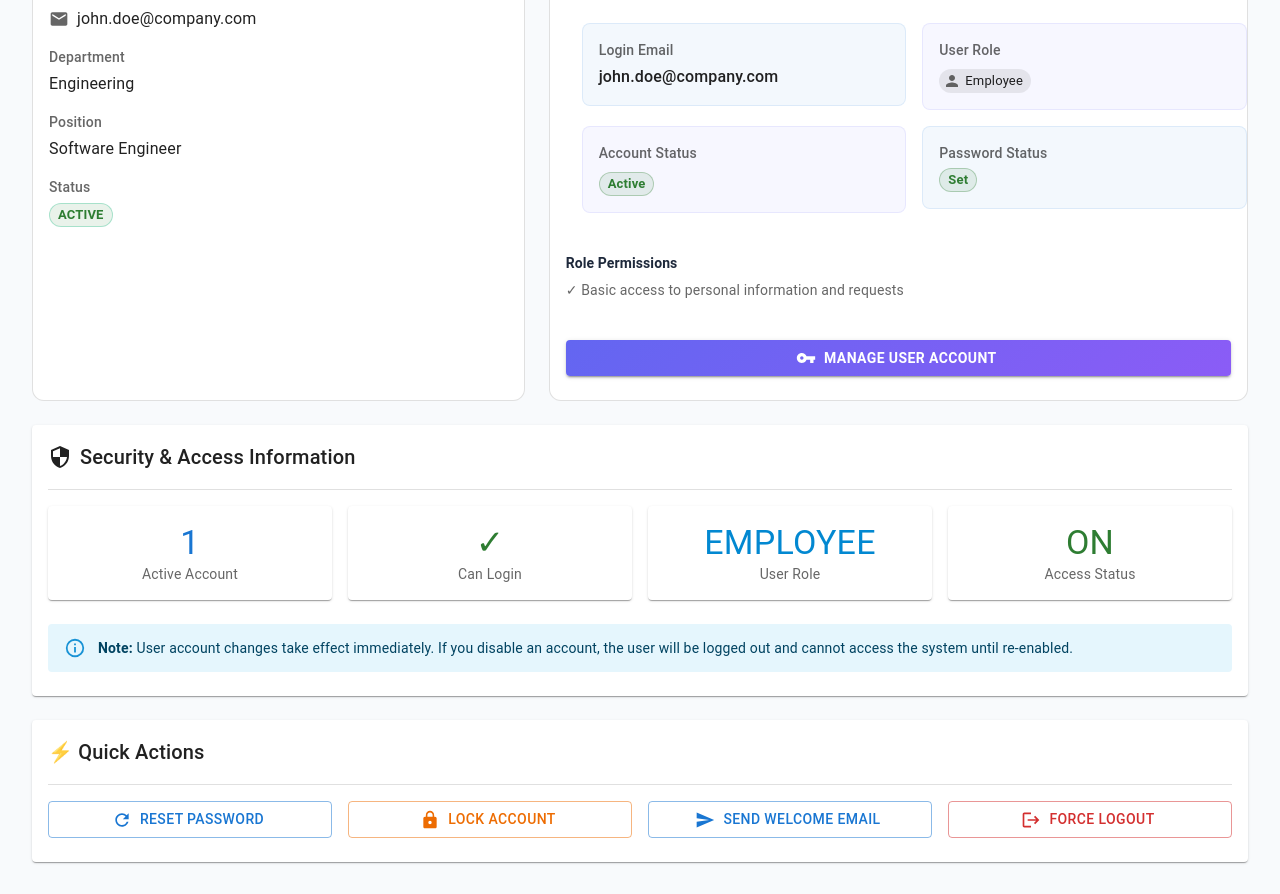
Test: UserAccountManagementPage › Quick Actions - Confirmation Dialogs › opens Send Welcome Email confirmation dialog
The width and height of the screenshot is (1280, 894).
(page scrolled)
Click the button with aria-label "send welcome email with credentials". click: click(790, 820)
box: [648, 802, 932, 838]
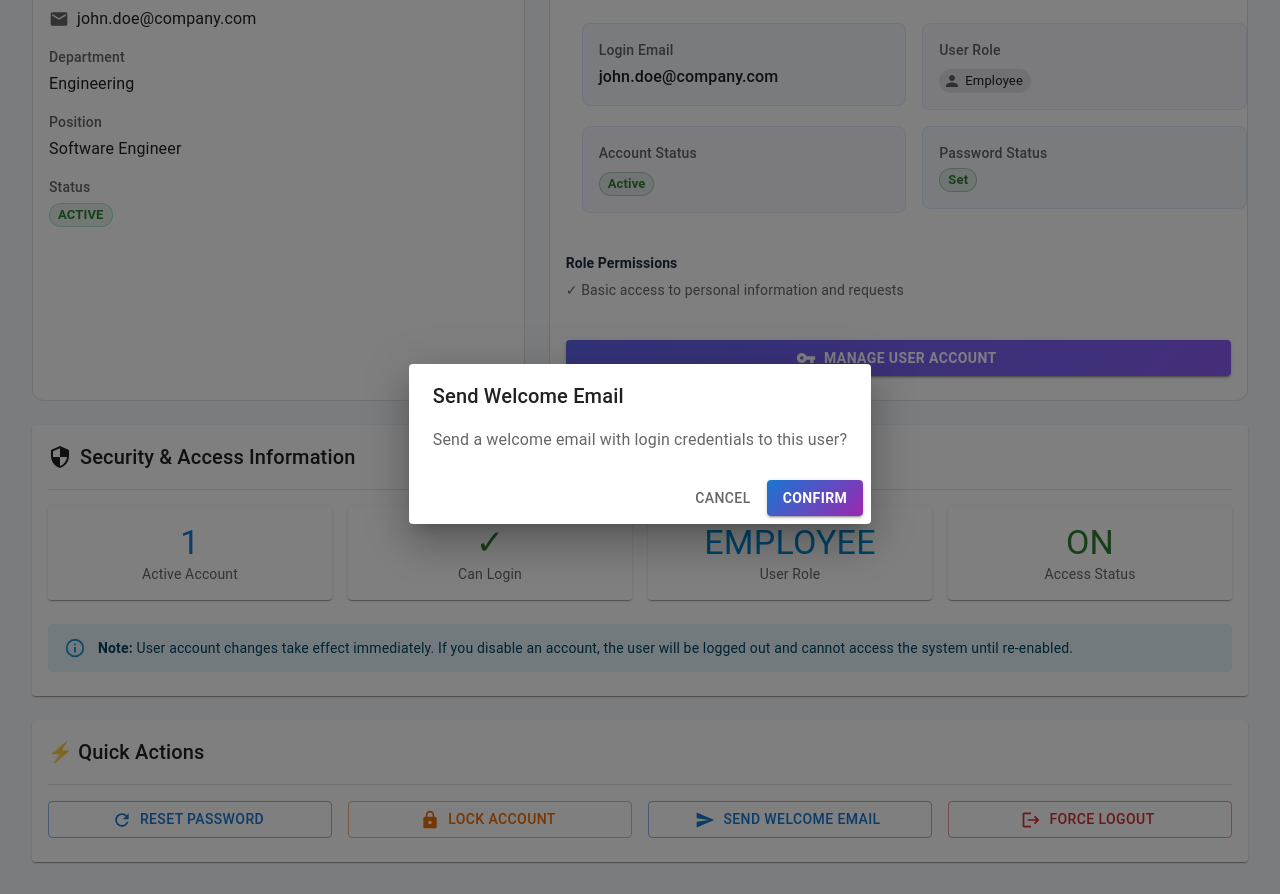
Now the dialog is shown, box [409, 364, 871, 524]
Now the text "Send a welcome email with login credentials to this user?" is shown, box [433, 428, 847, 452]
